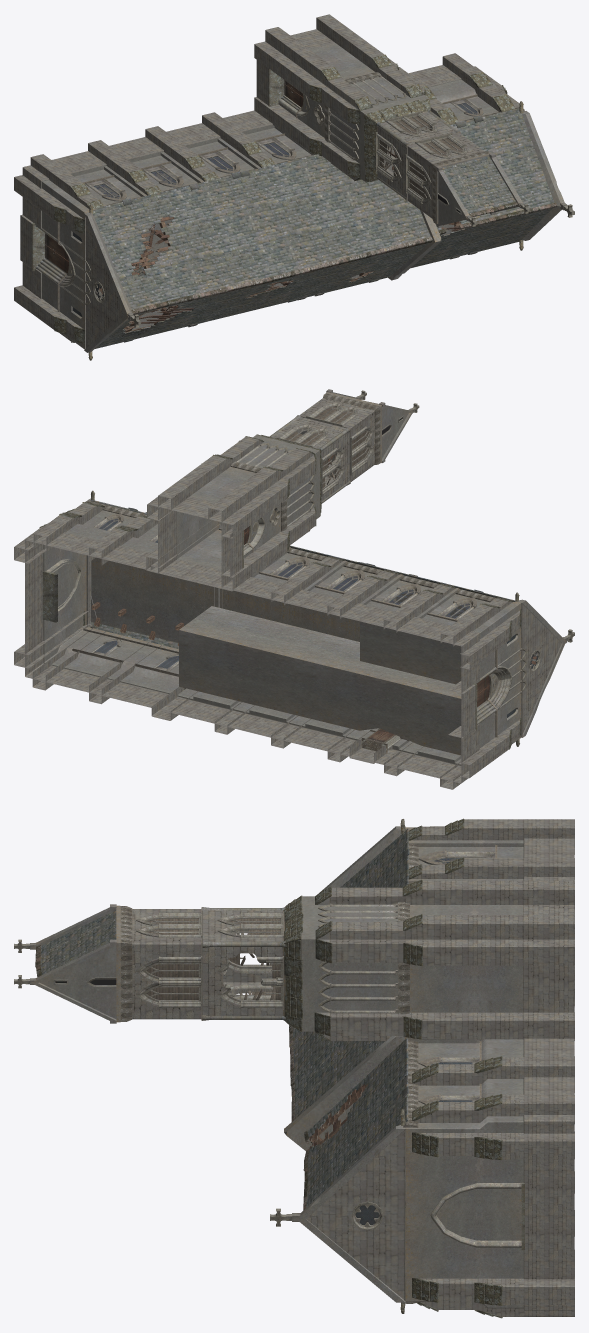
The model's file is bld_101_06_Church_D.glb.
3 renders of one model, top to bottom at view 1: azimuth 30°, elevation 25°; view 2: azimuth 150°, elevation 25°; view 3: azimuth 270°, elevation 25°, orthographic. The views are drawn at different scales.
Parts seen in each view (by area): view 1: set_0_group_1, set_0_group_0; view 2: set_0_group_1, set_0_group_0; view 3: set_0_group_1, set_0_group_0.
Boxes of the visible parts, box(x1,y1,x2,y2) form: set_0_group_1: box(14, 14, 564, 352); set_0_group_0: box(31, 54, 574, 360); set_0_group_1: box(14, 389, 566, 789); set_0_group_0: box(39, 390, 574, 753); set_0_group_1: box(31, 819, 574, 1316); set_0_group_0: box(14, 818, 524, 1318).
Bounding box in the file's own units: 32.53 × 15.28 × 24.93.
Materials: 2 (2 with a texture image).
